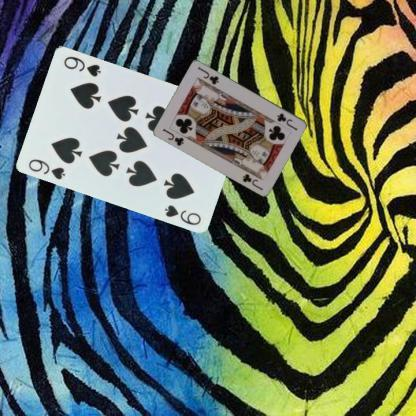9s: (26, 156, 67, 181)
Jc: (160, 125, 186, 147), (274, 110, 299, 132)
